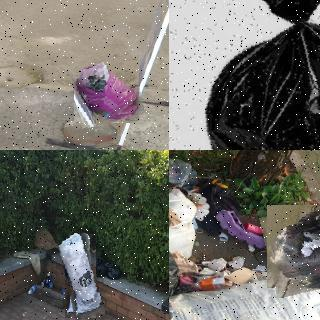Garbage: (169, 0, 320, 150), (169, 270, 320, 320), (263, 199, 320, 293), (71, 53, 142, 127), (60, 227, 101, 319), (93, 255, 107, 276), (106, 260, 120, 280)
